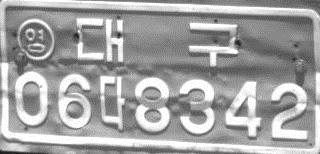0: (13, 69, 49, 129)
2: (269, 80, 309, 140)
3: (177, 78, 216, 136)
4: (225, 80, 261, 138)
6: (57, 72, 91, 129)
8: (133, 77, 171, 133)
다: (98, 73, 127, 131)
대구_D: (73, 16, 240, 68)
영: (16, 17, 57, 61)
